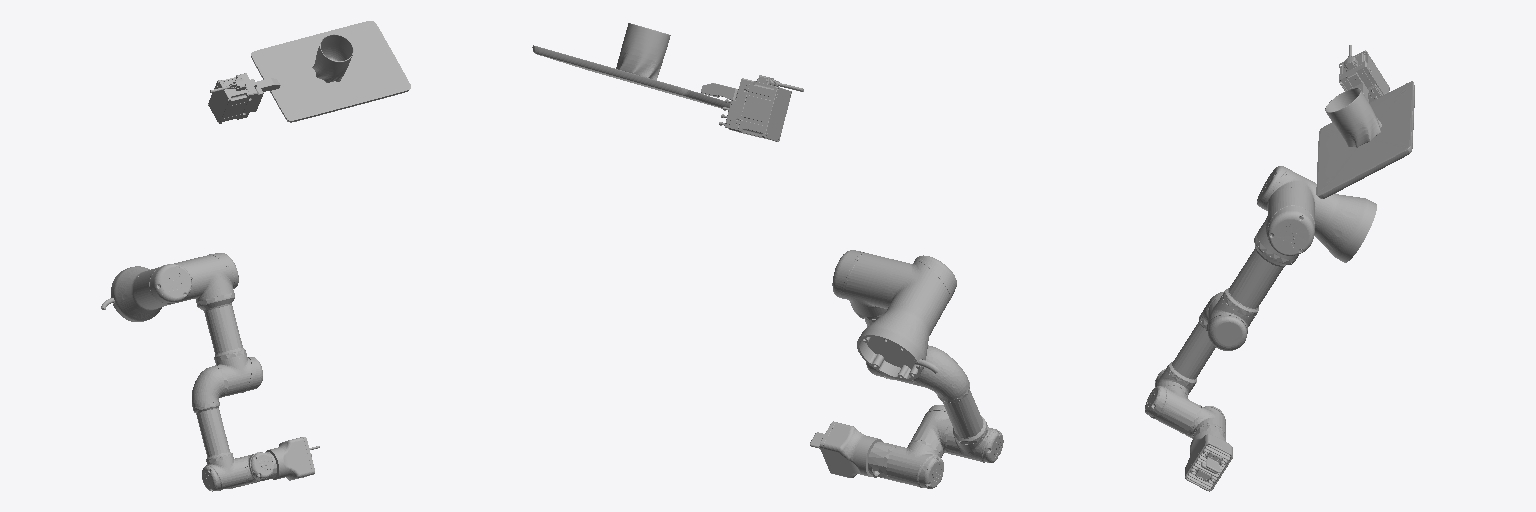
--- Render facts (derived) ---
3 views of the same robot in one strip: view 1: azimuth 30°, elevation 25°; view 2: azimuth 150°, elevation 25°; view 3: azimuth 270°, elevation 25° (orthographic).
Model dual_arm_model with 24 links and 23 joints (12 revolute, 11 fixed), rooted at Root, posed every joint at zero.
Visible links, largest first — view 1: flange1, upper_arm_link, forearm_link, shoulder_link, wrist_3_link, base_link, wrist_1_link; view 2: flange1, forearm_link, base_link, upper_arm_link, shoulder_link, wrist_3_link, wrist_2_link, wrist_1_link; view 3: flange1, upper_arm_link, base_link, wrist_3_link, forearm_link, wrist_1_link, shoulder_link, wrist_2_link.
Link boxes in pixels (box(x1,y1,x2,y2)): flange1: box(208, 21, 410, 123); upper_arm_link: box(182, 253, 262, 397); forearm_link: box(192, 366, 246, 491); shoulder_link: box(134, 262, 193, 308); wrist_3_link: box(261, 437, 319, 480); base_link: box(101, 266, 161, 321); wrist_1_link: box(239, 452, 273, 483); flange1: box(532, 23, 803, 141); forearm_link: box(916, 346, 1003, 462); base_link: box(857, 305, 939, 380); upper_arm_link: box(832, 250, 928, 385); shoulder_link: box(887, 255, 956, 330); wrist_3_link: box(810, 421, 896, 479); wrist_2_link: box(886, 440, 943, 488); wrist_1_link: box(911, 405, 951, 457); flange1: box(1316, 45, 1414, 198); upper_arm_link: box(1207, 188, 1314, 350); base_link: box(1314, 193, 1376, 262); wrist_3_link: box(1185, 423, 1232, 491); forearm_link: box(1155, 291, 1224, 396); wrist_1_link: box(1145, 385, 1198, 433); shoulder_link: box(1257, 166, 1332, 229); wrist_2_link: box(1185, 405, 1225, 438).
Bounding box of the posed robot: 0.7894 × 0.516 × 0.9519 m (x, y, z).
52 mesh visuals loaded from 66 distinct referenced files (52 OBJ); not drawn: 14 (reference not matched to a file when rendering).

robot.urdf — dual_arm_model:
<?xml version="1.0" encoding="UTF-8"?>
<robot name="dual_arm_model">
  <joint name="base_fixture_j_base_link" type="fixed">
    <origin xyz="0. -0.09 0.235" rpy="0. 1.0472 -1.5708"/>
    <parent link="base_fixture_link"/>
    <child link="base_link"/>
  </joint>
  <joint name="base_fixture_j_base_link1" type="fixed">
    <origin xyz="0. 0.09 0.235" rpy="-0. -1.0472 -1.5708"/>
    <parent link="base_fixture_link"/>
    <child link="base_link1"/>
  </joint>
  <joint name="base_link_base_fixed_joint" type="fixed">
    <origin xyz="0. 0. 0." rpy="0. 0. -3.1415925"/>
    <parent link="base_link"/>
    <child link="base"/>
  </joint>
  <joint name="base_link_base_fixed_joint1" type="fixed">
    <origin xyz="0. 0. 0." rpy="0. 0. -3.1415925"/>
    <parent link="base_link1"/>
    <child link="base1"/>
  </joint>
  <joint name="base_link_base_link_inertia1" type="fixed">
    <origin xyz="0. 0. 0." rpy="0. 0. -3.1415925"/>
    <parent link="base_link1"/>
    <child link="base_link_inertia1"/>
  </joint>
  <joint name="ee_fixed_joint" type="fixed">
    <origin xyz="0. 0.0819 0. " rpy="0. 0. 1.5707964"/>
    <parent link="wrist_3_link"/>
    <child link="ee_link"/>
  </joint>
  <joint name="elbow_joint" type="revolute">
    <origin xyz="0. -0.0925 0.24365" rpy="0. 0. 0."/>
    <parent link="upper_arm_link"/>
    <child link="forearm_link"/>
    <axis xyz="0. 1. 0."/>
    <limit lower="-6.2831853" upper="3.1415927" effort="150." velocity="3.15"/>
  </joint>
  <joint name="elbow_joint1" type="revolute">
    <origin xyz="-0.24355 0. 0. " rpy="0. 0. 0."/>
    <parent link="upper_arm_link1"/>
    <child link="forearm_link1"/>
    <axis xyz="0. 0. 1."/>
    <limit lower="-6.2831853" upper="6.2831853" effort="28." velocity="3.1415927"/>
  </joint>
  <joint name="flange_tool0" type="fixed">
    <origin xyz="0. 0. 0." rpy="1.5707964 0. 1.5707964"/>
    <parent link="flange"/>
    <child link="tool0"/>
  </joint>
  <joint name="flange_tool01" type="fixed">
    <origin xyz="0. 0. 0." rpy="1.5707964 0. 1.5707964"/>
    <parent link="flange1"/>
    <child link="tool01"/>
  </joint>
  <joint name="root_joint" type="fixed">
    <origin xyz="0. 0. 0." rpy="0. 0. 0."/>
    <parent link="Root"/>
    <child link="base_fixture_link"/>
  </joint>
  <joint name="shoulder_lift_joint" type="revolute">
    <origin xyz="0. 0.1198 0. " rpy="0. 1.5707963 0. "/>
    <parent link="shoulder_link"/>
    <child link="upper_arm_link"/>
    <axis xyz="0. 1. 0."/>
    <limit lower="-6.2831853" upper="6.2831853" effort="330." velocity="2.1600001"/>
  </joint>
  <joint name="shoulder_lift_joint1" type="revolute">
    <origin xyz="0. 0. 0." rpy="1.5707964 0. 0. "/>
    <parent link="shoulder_link1"/>
    <child link="upper_arm_link1"/>
    <axis xyz="0. 0. 1."/>
    <limit lower="-6.2831853" upper="6.2831853" effort="56." velocity="3.1415927"/>
  </joint>
  <joint name="shoulder_pan_joint" type="revolute">
    <origin xyz="0. 0. 0.1519" rpy="0. 0. 0."/>
    <parent link="base_link"/>
    <child link="shoulder_link"/>
    <axis xyz="0. 0. 1."/>
    <limit lower="-6.2831853" upper="6.2831853" effort="330." velocity="2.1600001"/>
  </joint>
  <joint name="shoulder_pan_joint1" type="revolute">
    <origin xyz="0. 0. 0.15185" rpy="0. 0. 0."/>
    <parent link="base_link_inertia1"/>
    <child link="shoulder_link1"/>
    <axis xyz="0. 0. 1."/>
    <limit lower="-6.2831853" upper="6.2831853" effort="56." velocity="3.1415927"/>
  </joint>
  <joint name="wrist_1_joint" type="revolute">
    <origin xyz="0. 0. 0.21325" rpy="0. 1.5707963 0. "/>
    <parent link="forearm_link"/>
    <child link="wrist_1_link"/>
    <axis xyz="0. 1. 0."/>
    <limit lower="-6.2831853" upper="6.2831853" effort="54." velocity="3.2"/>
  </joint>
  <joint name="wrist_1_joint1" type="revolute">
    <origin xyz="-0.2132 0. 0.13105" rpy="0. 0. 0."/>
    <parent link="forearm_link1"/>
    <child link="wrist_1_link1"/>
    <axis xyz="0. 0. 1."/>
    <limit lower="-6.2831853" upper="6.2831853" effort="12." velocity="6.2831853"/>
  </joint>
  <joint name="wrist_2_joint" type="revolute">
    <origin xyz="0. 0.08505 0. " rpy="0. 0. 0."/>
    <parent link="wrist_1_link"/>
    <child link="wrist_2_link"/>
    <axis xyz="0. 0. 1."/>
    <limit lower="-6.2831853" upper="6.2831853" effort="54." velocity="3.2"/>
  </joint>
  <joint name="wrist_2_joint1" type="revolute">
    <origin xyz="0. -0.08535 -0. " rpy="1.5707964 0. 0. "/>
    <parent link="wrist_1_link1"/>
    <child link="wrist_2_link1"/>
    <axis xyz="0. 0. 1."/>
    <limit lower="-6.2831853" upper="6.2831853" effort="12." velocity="6.2831853"/>
  </joint>
  <joint name="wrist_3_flange" type="fixed">
    <origin xyz="0. 0. 0." rpy="-1.5707964 -1.5707964 0. "/>
    <parent link="wrist_3_link"/>
    <child link="flange"/>
  </joint>
  <joint name="wrist_3_flange1" type="fixed">
    <origin xyz="0. 0. 0." rpy="-1.5707964 -1.5707964 0. "/>
    <parent link="wrist_3_link1"/>
    <child link="flange1"/>
  </joint>
  <joint name="wrist_3_joint" type="revolute">
    <origin xyz="0. 0. 0.08535" rpy="0. 0. 0."/>
    <parent link="wrist_2_link"/>
    <child link="wrist_3_link"/>
    <axis xyz="0. 1. 0."/>
    <limit lower="-6.2831853" upper="6.2831853" effort="54." velocity="3.2"/>
  </joint>
  <joint name="wrist_3_joint1" type="revolute">
    <origin xyz="0. 0.0921 -0. " rpy="-1.5707964 -0.0000001 0.0000001"/>
    <parent link="wrist_2_link1"/>
    <child link="wrist_3_link1"/>
    <axis xyz="0. 0. 1."/>
    <limit lower="-6.2831853" upper="6.2831853" effort="12." velocity="6.2831853"/>
  </joint>
  <link name="Root"/>
  <link name="base">
    <inertial>
      <origin xyz="0. 0. 0." rpy="0. 0. 0."/>
      <mass value="0.000001"/>
      <inertia ixx="0." ixy="0." ixz="0." iyy="0." iyz="0." izz="0."/>
    </inertial>
  </link>
  <link name="base1">
    <inertial>
      <origin xyz="0. 0. 0." rpy="0. 0. 0."/>
      <mass value="0.000001"/>
      <inertia ixx="0." ixy="0." ixz="0." iyy="0." iyz="0." izz="0."/>
    </inertial>
  </link>
  <link name="base_fixture_link"/>
  <link name="base_link">
    <inertial>
      <origin xyz="0. 0. 0." rpy="0. 0. 0."/>
      <mass value="2."/>
      <inertia ixx="0." ixy="0." ixz="0." iyy="0." iyz="0." izz="0."/>
    </inertial>
    <visual>
      <origin xyz="0. 0. 0." rpy="0. 0. 0."/>
      <geometry>
        <mesh filename="package://dual_arm_model/meshes/base_link_visuals.obj" scale="1. 1. 1."/>
      </geometry>
      <material name="LightGrey">
        <color rgba="0.7 0.7 0.7 1.0"/>
      </material>
    </visual>
    <collision>
      <origin xyz="0. 0. 0." rpy="0. 0. 0."/>
      <geometry>
        <mesh filename="package://dual_arm_model/meshes/base_link_collisions.obj" scale="1. 1. 1."/>
      </geometry>
    </collision>
  </link>
  <link name="base_link1">
    <inertial>
      <origin xyz="0. 0. 0." rpy="0. 0. 0."/>
      <mass value="0.000001"/>
      <inertia ixx="0." ixy="0." ixz="0." iyy="0." iyz="0." izz="0."/>
    </inertial>
  </link>
  <link name="base_link_inertia1">
    <inertial>
      <origin xyz="0. 0. 0." rpy="0. 0. 0."/>
      <mass value="2."/>
      <inertia ixx="0." ixy="0." ixz="0." iyy="0." iyz="0." izz="0."/>
    </inertial>
    <visual>
      <origin xyz="0. 0. 0." rpy="0. 0. -3.1415925"/>
      <geometry>
        <mesh filename="package://dual_arm_model/meshes/visual/base.dae" scale="1. 1. 1."/>
      </geometry>
      <material name="LightGrey">
        <color rgba="0.7 0.7 0.7 1.0"/>
      </material>
    </visual>
    <collision>
      <origin xyz="0. 0. 0." rpy="0. 0. -3.1415925"/>
      <geometry>
        <mesh filename="package://dual_arm_model/meshes/collision/base.stl" scale="1. 1. 1."/>
      </geometry>
    </collision>
  </link>
  <link name="ee_link">
    <inertial>
      <origin xyz="0. 0. 0." rpy="0. 0. 0."/>
      <mass value="0.000001"/>
      <inertia ixx="0." ixy="0." ixz="0." iyy="0." iyz="0." izz="0."/>
    </inertial>
    <visual>
      <origin xyz="-0.01 0. 0. " rpy="0. 0. 0."/>
      <geometry>
        <box size="0.01 0.01 0.01"/>
      </geometry>
    </visual>
    <collision>
      <origin xyz="-0.01 0. 0. " rpy="0. 0. 0."/>
      <geometry>
        <box size="0.01 0.01 0.01"/>
      </geometry>
    </collision>
  </link>
  <link name="flange">
    <inertial>
      <origin xyz="0. 0. 0." rpy="0. 0. 0."/>
      <mass value="0.000001"/>
      <inertia ixx="0." ixy="0." ixz="0." iyy="0." iyz="0." izz="0."/>
    </inertial>
  </link>
<material name="LightGrey">
    <color rgba="0.7 0.7 0.7 1.0"/>
</material>

<link name="flange1">
    <inertial>
      <origin xyz="0. 0. 0." rpy="0. 0. 0."/>
      <mass value="0.000001"/>
      <inertia ixx="0." ixy="0." ixz="0." iyy="0." iyz="0." izz="0."/>
    </inertial>
    <visual>
      <origin xyz="0.0242436 -0.0438991 0.0062681" rpy="0. 0. -1.5707964"/>
      <geometry>
        <mesh filename="meshes/PGI_140_80_W_S_finger_part_1_____________3_2_Mesh_0.obj" scale="0.001 0.001 0.001"/>
      </geometry>
      <material name="LightGrey">
        <color rgba="0.7 0.7 0.7 1.0"/>
      </material>
    </visual>
    <visual>
      <origin xyz="0.0232264 -0.0779881 0.0034687" rpy="0. 0. -1.5707964"/>
      <geometry>
        <mesh filename="meshes/PGI_140_80_W_S_finger_part_1_NONE_3_Mesh_1.obj" scale="0.001 0.001 0.001"/>
      </geometry>
      <material name="LightGrey">
        <color rgba="0.7 0.7 0.7 1.0"/>
      </material>
    </visual>
    <visual>
      <origin xyz="0.0242436 0.0331808 -0.0024476" rpy="-3.1415927 0. 1.5707963"/>
      <geometry>
        <mesh filename="meshes/PGI_140_80_W_S_finger_part_4_____________3_2_Mesh_0.obj" scale="0.001 0.001 0.001"/>
      </geometry>
      <material name="LightGrey">
        <color rgba="0.7 0.7 0.7 1.0"/>
      </material>
    </visual>
    <visual>
      <origin xyz="0.0253243 0.0693999 0.0005267" rpy="-3.1415927 0. 1.5707963"/>
      <geometry>
        <mesh filename="meshes/PGI_140_80_W_S_finger_part_4_NONE_3_Mesh_1.obj" scale="0.001 0.001 0.001"/>
      </geometry>
      <material name="LightGrey">
        <color rgba="0.7 0.7 0.7 1.0"/>
      </material>
    </visual>
    <visual>
      <origin xyz="0.0257436 -0.0438991 0.0062681" rpy="-1.5707964 0. -1.5707964"/>
      <geometry>
        <mesh filename="meshes/NONE_6_Mesh_2.obj" scale="0.001 0.001 0.001"/>
      </geometry>
      <material name="LightGrey">
        <color rgba="0.7 0.7 0.7 1.0"/>
      </material>
    </visual>
    <visual>
      <origin xyz="0.0257436 -0.0438991 0.0062681" rpy="-1.5707964 0. -1.5707964"/>
      <geometry>
        <mesh filename="meshes/Mesh_3.obj" scale="0.001 0.001 0.001"/>
      </geometry>
      <material name="LightGrey">
        <color rgba="0.7 0.7 0.7 1.0"/>
      </material>
    </visual>
    <visual>
      <origin xyz="0.0257436 -0.0438991 0.0062681" rpy="-1.5707964 0. -1.5707964"/>
      <geometry>
        <mesh filename="meshes/Mesh_4.obj" scale="0.001 0.001 0.001"/>
      </geometry>
      <material name="LightGrey">
        <color rgba="0.7 0.7 0.7 1.0"/>
      </material>
    </visual>
    <visual>
      <origin xyz="0.0257436 -0.0438991 0.0062681" rpy="-1.5707964 0. -1.5707964"/>
      <geometry>
        <mesh filename="meshes/Mesh_5.obj" scale="0.001 0.001 0.001"/>
      </geometry>
      <material name="LightGrey">
        <color rgba="0.7 0.7 0.7 1.0"/>
      </material>
    </visual>
    <visual>
      <origin xyz="0.0257436 -0.0438991 0.0062681" rpy="-1.5707964 0. -1.5707964"/>
      <geometry>
        <mesh filename="meshes/Mesh_6.obj" scale="0.001 0.001 0.001"/>
      </geometry>
      <material name="LightGrey">
        <color rgba="0.7 0.7 0.7 1.0"/>
      </material>
    </visual>
    <visual>
      <origin xyz="0.0257436 -0.0438991 0.0062681" rpy="-1.5707964 0. -1.5707964"/>
      <geometry>
        <mesh filename="meshes/Mesh_7.obj" scale="0.001 0.001 0.001"/>
      </geometry>
      <material name="LightGrey">
        <color rgba="0.7 0.7 0.7 1.0"/>
      </material>
    </visual>
    <visual>
      <origin xyz="0.0257436 -0.0438991 0.0062681" rpy="-1.5707964 0. -1.5707964"/>
      <geometry>
        <mesh filename="meshes/Mesh_8.obj" scale="0.001 0.001 0.001"/>
      </geometry>
      <material name="LightGrey">
        <color rgba="0.7 0.7 0.7 1.0"/>
      </material>
    </visual>
    <visual>
      <origin xyz="0.0257436 -0.0438991 0.0062681" rpy="-1.5707964 0. -1.5707964"/>
      <geometry>
        <mesh filename="meshes/Mesh_9.obj" scale="0.001 0.001 0.001"/>
      </geometry>
      <material name="LightGrey">
        <color rgba="0.7 0.7 0.7 1.0"/>
      </material>
    </visual>
    <visual>
      <origin xyz="0.0257436 -0.0438991 0.0062681" rpy="-1.5707964 0. -1.5707964"/>
      <geometry>
        <mesh filename="meshes/Mesh_10.obj" scale="0.001 0.001 0.001"/>
      </geometry>
      <material name="LightGrey">
        <color rgba="0.7 0.7 0.7 1.0"/>
      </material>
    </visual>
    <visual>
      <origin xyz="0.0257436 -0.0438991 0.0062681" rpy="-1.5707964 0. -1.5707964"/>
      <geometry>
        <mesh filename="meshes/Mesh_11.obj" scale="0.001 0.001 0.001"/>
      </geometry>
      <material name="LightGrey">
        <color rgba="0.7 0.7 0.7 1.0"/>
      </material>
    </visual>
    <visual>
      <origin xyz="0.0257436 -0.0438991 0.0062681" rpy="-1.5707964 0. -1.5707964"/>
      <geometry>
        <mesh filename="meshes/Mesh_12.obj" scale="0.001 0.001 0.001"/>
      </geometry>
      <material name="LightGrey">
        <color rgba="0.7 0.7 0.7 1.0"/>
      </material>
    </visual>
    <visual>
      <origin xyz="0.0257436 -0.0438991 0.0062681" rpy="-1.5707964 0. -1.5707964"/>
      <geometry>
        <mesh filename="meshes/NONE_17_Mesh_13.obj" scale="0.001 0.001 0.001"/>
      </geometry>
      <material name="LightGrey">
        <color rgba="0.7 0.7 0.7 1.0"/>
      </material>
    </visual>
    <visual>
      <origin xyz="0.0257436 -0.0438991 0.0062681" rpy="-1.5707964 0. -1.5707964"/>
      <geometry>
        <mesh filename="meshes/NONE_18_Mesh_14.obj" scale="0.001 0.001 0.001"/>
      </geometry>
      <material name="LightGrey">
        <color rgba="0.7 0.7 0.7 1.0"/>
      </material>
    </visual>
    <visual>
      <origin xyz="0.0257436 -0.0438991 0.0062681" rpy="-1.5707964 0. -1.5707964"/>
      <geometry>
        <mesh filename="meshes/NONE_19_Mesh_15.obj" scale="0.001 0.001 0.001"/>
      </geometry>
      <material name="LightGrey">
        <color rgba="0.7 0.7 0.7 1.0"/>
      </material>
    </visual>
    <visual>
      <origin xyz="0.0257436 -0.0438991 0.0062681" rpy="-1.5707964 0. -1.5707964"/>
      <geometry>
        <mesh filename="meshes/NONE_20_Mesh_16.obj" scale="0.001 0.001 0.001"/>
      </geometry>
      <material name="LightGrey">
        <color rgba="0.7 0.7 0.7 1.0"/>
      </material>
    </visual>
    <visual>
      <origin xyz="0.0257436 -0.0438991 0.0062681" rpy="-1.5707964 0. -1.5707964"/>
      <geometry>
        <mesh filename="meshes/Mesh_17.obj" scale="0.001 0.001 0.001"/>
      </geometry>
      <material name="LightGrey">
        <color rgba="0.7 0.7 0.7 1.0"/>
      </material>
    </visual>
    <visual>
      <origin xyz="0.0257436 -0.0438991 0.0062681" rpy="-1.5707964 0. -1.5707964"/>
      <geometry>
        <mesh filename="meshes/Mesh_18.obj" scale="0.001 0.001 0.001"/>
      </geometry>
      <material name="LightGrey">
        <color rgba="0.7 0.7 0.7 1.0"/>
      </material>
    </visual>
    <visual>
      <origin xyz="0.0257436 -0.0438991 0.0062681" rpy="-1.5707964 0. -1.5707964"/>
      <geometry>
        <mesh filename="meshes/Mesh_19.obj" scale="0.001 0.001 0.001"/>
      </geometry>
      <material name="LightGrey">
        <color rgba="0.7 0.7 0.7 1.0"/>
      </material>
    </visual>
    <visual>
      <origin xyz="0.0257436 -0.0438991 0.0062681" rpy="-1.5707964 0. -1.5707964"/>
      <geometry>
        <mesh filename="meshes/Mesh_20.obj" scale="0.001 0.001 0.001"/>
      </geometry>
      <material name="LightGrey">
        <color rgba="0.7 0.7 0.7 1.0"/>
      </material>
    </visual>
    <visual>
      <origin xyz="0.0257436 -0.0438991 0.0062681" rpy="-1.5707964 0. -1.5707964"/>
      <geometry>
        <mesh filename="meshes/Mesh_21.obj" scale="0.001 0.001 0.001"/>
      </geometry>
      <material name="LightGrey">
        <color rgba="0.7 0.7 0.7 1.0"/>
      </material>
    </visual>
    <visual>
      <origin xyz="0.0257436 -0.0438991 0.0062681" rpy="-1.5707964 0. -1.5707964"/>
      <geometry>
        <mesh filename="meshes/Mesh_22.obj" scale="0.001 0.001 0.001"/>
      </geometry>
      <material name="LightGrey">
        <color rgba="0.7 0.7 0.7 1.0"/>
      </material>
    </visual>
    <visual>
      <origin xyz="0.0257436 -0.0438991 0.0062681" rpy="-1.5707964 0. -1.5707964"/>
      <geometry>
        <mesh filename="meshes/Mesh_23.obj" scale="0.001 0.001 0.001"/>
      </geometry>
      <material name="LightGrey">
        <color rgba="0.7 0.7 0.7 1.0"/>
      </material>
    </visual>
    <visual>
      <origin xyz="0.0257436 -0.0438991 0.0062681" rpy="-1.5707964 0. -1.5707964"/>
      <geometry>
        <mesh filename="meshes/Mesh_24.obj" scale="0.001 0.001 0.001"/>
      </geometry>
      <material name="LightGrey">
        <color rgba="0.7 0.7 0.7 1.0"/>
      </material>
    </visual>
    <visual>
      <origin xyz="0.0257436 -0.0438991 0.0062681" rpy="-1.5707964 0. -1.5707964"/>
      <geometry>
        <mesh filename="meshes/Mesh_25.obj" scale="0.001 0.001 0.001"/>
      </geometry>
      <material name="LightGrey">
        <color rgba="0.7 0.7 0.7 1.0"/>
      </material>
    </visual>
    <visual>
      <origin xyz="0.0257436 -0.0438991 0.0062681" rpy="-1.5707964 0. -1.5707964"/>
      <geometry>
        <mesh filename="meshes/Mesh_26.obj" scale="0.001 0.001 0.001"/>
      </geometry>
      <material name="LightGrey">
        <color rgba="0.7 0.7 0.7 1.0"/>
      </material>
    </visual>
    <visual>
      <origin xyz="0.0257436 -0.0438991 0.0062681" rpy="-1.5707964 0. -1.5707964"/>
      <geometry>
        <mesh filename="meshes/Mesh_27.obj" scale="0.001 0.001 0.001"/>
      </geometry>
      <material name="LightGrey">
        <color rgba="0.7 0.7 0.7 1.0"/>
      </material>
    </visual>
    <visual>
      <origin xyz="0.0257436 -0.0438991 0.0062681" rpy="-1.5707964 0. -1.5707964"/>
      <geometry>
        <mesh filename="meshes/Mesh_28.obj" scale="0.001 0.001 0.001"/>
      </geometry>
      <material name="LightGrey">
        <color rgba="0.7 0.7 0.7 1.0"/>
      </material>
    </visual>
    <visual>
      <origin xyz="0.0257436 -0.0438991 0.0062681" rpy="-1.5707964 0. -1.5707964"/>
      <geometry>
        <mesh filename="meshes/Mesh_29.obj" scale="0.001 0.001 0.001"/>
      </geometry>
      <material name="LightGrey">
        <color rgba="0.7 0.7 0.7 1.0"/>
      </material>
    </visual>
    <visual>
      <origin xyz="0.0257436 -0.0438991 0.0062681" rpy="-1.5707964 0. -1.5707964"/>
      <geometry>
        <mesh filename="meshes/Mesh_30.obj" scale="0.001 0.001 0.001"/>
      </geometry>
      <material name="LightGrey">
        <color rgba="0.7 0.7 0.7 1.0"/>
      </material>
    </visual>
    <visual>
      <origin xyz="0.0257436 -0.0438991 0.0062681" rpy="-1.5707964 0. -1.5707964"/>
      <geometry>
        <mesh filename="meshes/Mesh_31.obj" scale="0.001 0.001 0.001"/>
      </geometry>
      <material name="LightGrey">
        <color rgba="0.7 0.7 0.7 1.0"/>
      </material>
    </visual>
    <visual>
      <origin xyz="0.0257436 -0.0438991 0.0062681" rpy="-1.5707964 0. -1.5707964"/>
      <geometry>
        <mesh filename="meshes/Mesh_32.obj" scale="0.001 0.001 0.001"/>
      </geometry>
      <material name="LightGrey">
        <color rgba="0.7 0.7 0.7 1.0"/>
      </material>
    </visual>
    <visual>
      <origin xyz="0.0257436 -0.0438991 0.0062681" rpy="-1.5707964 0. -1.5707964"/>
      <geometry>
        <mesh filename="meshes/Mesh_33.obj" scale="0.001 0.001 0.001"/>
      </geometry>
      <material name="LightGrey">
        <color rgba="0.7 0.7 0.7 1.0"/>
      </material>
    </visual>
    <visual>
      <origin xyz="0.0257436 -0.0438991 0.0062681" rpy="-1.5707964 0. -1.5707964"/>
      <geometry>
        <mesh filename="meshes/Mesh_34.obj" scale="0.001 0.001 0.001"/>
      </geometry>
      <material name="LightGrey">
        <color rgba="0.7 0.7 0.7 1.0"/>
      </material>
    </visual>
    <visual>
      <origin xyz="0.3018072 -0.0136545 0.0148756" rpy="1.5707964 0. -0.0349049"/>
      <geometry>
        <mesh filename="meshes/plane_node__mesh_.obj" scale="1.05 1. 1. "/>
      </geometry>
      <material name="LightGrey">
        <color rgba="0.7 0.7 0.7 1.0"/>
      </material>
    </visual>
    <visual>
      <origin xyz="0.2958951 -0.0129789 0.0094272" rpy="1.6057012 1.5707964 0. "/>
      <geometry>
        <mesh filename="meshes/bottle_node__mesh_.obj" scale="1. 1. 1."/>
      </geometry>
      <material name="LightGrey">
        <color rgba="0.7 0.7 0.7 1.0"/>
      </material>
    </visual>
</link>


  <link name="forearm_link">
    <inertial>
      <origin xyz="0. 0. 0." rpy="0. 0. 0."/>
      <mass value="1.26"/>
      <inertia ixx="0." ixy="0." ixz="0." iyy="0." iyz="0." izz="0."/>
    </inertial>
    <visual>
      <origin xyz="0. 0. -0." rpy="0. 0. 0."/>
      <geometry>
        <mesh filename="package://dual_arm_model/meshes/forearm_link_visuals.obj" scale="1. 1. 1."/>
      </geometry>
      <material name="LightGrey">
        <color rgba="0.7 0.7 0.7 1.0"/>
      </material>
    </visual>
    <collision>
      <origin xyz="0. 0. 0." rpy="0. 0. 0."/>
      <geometry>
        <mesh filename="package://dual_arm_model/meshes/forearm_link_collisions.obj" scale="1. 1. 1."/>
      </geometry>
    </collision>
  </link>
  <link name="forearm_link1">
    <inertial>
      <origin xyz="0. 0. 0." rpy="0. 0. 0."/>
      <mass value="1.26"/>
      <inertia ixx="0." ixy="0." ixz="0." iyy="0." iyz="0." izz="0."/>
    </inertial>
    <visual>
      <origin xyz="0. 0. 0.027" rpy="1.5707964 -0.0000001 -1.5707965"/>
      <geometry>
        <mesh filename="package://dual_arm_model/meshes/visual/forearm.dae" scale="1. 1. 1."/>
      </geometry>
      <material name="LightGrey">
        <color rgba="0.7 0.7 0.7 1.0"/>
      </material>
    </visual>
      <origin xyz="0. 0. 0.027" rpy="1.5707964 0. -1.5707964"/>
      <geometry>
        <mesh filename="package://dual_arm_model/meshes/collision/forearm.stl" scale="1. 1. 1."/>
      </geometry>
    <collision>
      <origin xyz="0. 0. 0.027" rpy="1.5707964 0. -1.5707964"/>
      <geometry>
        <mesh filename="package://dual_arm_model/meshes/collision/forearm.stl" scale="1. 1. 1."/>
      </geometry>
    </collision>
  </link>
  <link name="shoulder_link">
    <inertial>
      <origin xyz="0. 0. 0." rpy="0. 0. 0."/>
      <mass value="2."/>
      <inertia ixx="0." ixy="0." ixz="0." iyy="0." iyz="0." izz="0."/>
    </inertial>
    <visual>
      <origin xyz="0. -0. 0." rpy="0. 0. 0."/>
      <geometry>
        <mesh filename="package://dual_arm_model/meshes/shoulder_link_visuals.obj" scale="1. 1. 1."/>
      </geometry>
      <material name="LightGrey">
        <color rgba="0.7 0.7 0.7 1.0"/>
      </material>
    </visual>
    <collision>
      <origin xyz="0. 0. 0." rpy="0. 0. 0."/>
      <geometry>
        <mesh filename="package://dual_arm_model/meshes/shoulder_link_collisions.obj" scale="1. 1. 1."/>
      </geometry>
    </collision>
  </link>
  <link name="shoulder_link1">
    <inertial>
      <origin xyz="0. 0. 0." rpy="0. 0. 0."/>
      <mass value="2."/>
      <inertia ixx="0." ixy="0." ixz="0." iyy="0." iyz="0." izz="0."/>
    </inertial>
    <visual>
      <origin xyz="-0. 0. -0.0000001" rpy="0. -0.0000002 -3.1415925"/>
      <geometry>
        <mesh filename="package://dual_arm_model/meshes/visual/shoulder.dae" scale="1. 1. 1."/>
      </geometry>
      <material name="LightGrey">
        <color rgba="0.7 0.7 0.7 1.0"/>
      </material>
    </visual>
    <collision>
      <origin xyz="0. 0. 0." rpy="0. 0. -3.1415925"/>
      <geometry>
        <mesh filename="package://dual_arm_model/meshes/collision/shoulder.stl" scale="1. 1. 1."/>
      </geometry>
    </collision>
  </link>
  <link name="tool0">
    <inertial>
      <origin xyz="0. 0. 0." rpy="0. 0. 0."/>
      <mass value="0.000001"/>
      <inertia ixx="0." ixy="0." ixz="0." iyy="0." iyz="0." izz="0."/>
    </inertial>
  </link>
  <link name="tool01">
    <inertial>
      <origin xyz="0. 0. 0." rpy="0. 0. 0."/>
      <mass value="0.000001"/>
      <inertia ixx="0." ixy="0." ixz="0." iyy="0." iyz="0." izz="0."/>
    </inertial>
  </link>
  <link name="upper_arm_link">
    <inertial>
      <origin xyz="0. 0. 0." rpy="0. 0. 0."/>
      <mass value="3.4200001"/>
      <inertia ixx="0." ixy="0." ixz="0." iyy="0." iyz="0." izz="0."/>
    </inertial>
    <visual>
      <origin xyz="0. 0. 0.0000001" rpy="0. 0. 0."/>
      <geometry>
        <mesh filename="package://dual_arm_model/meshes/upper_arm_link_visuals.obj" scale="1. 1. 1."/>
      </geometry>
      <material name="LightGrey">
        <color rgba="0.7 0.7 0.7 1.0"/>
      </material>
    </visual>
    <collision>
      <origin xyz="0. 0. 0." rpy="0. 0. 0."/>
      <geometry>
        <mesh filename="package://dual_arm_model/meshes/upper_arm_link_collisions.obj" scale="1. 1. 1."/>
      </geometry>
    </collision>
  </link>
  <link name="upper_arm_link1">
    <inertial>
      <origin xyz="0. 0. 0." rpy="0. 0. 0."/>
      <mass value="3.4200001"/>
      <inertia ixx="0." ixy="0." ixz="0." iyy="0." iyz="0." izz="0."/>
    </inertial>
    <visual>
      <origin xyz="0. -0.0000001 0.12 " rpy="1.5707964 0. -1.5707964"/>
      <geometry>
        <mesh filename="package://dual_arm_model/meshes/visual/upperarm.dae" scale="1. 1. 1."/>
      </geometry>
      <material name="LightGrey">
        <color rgba="0.7 0.7 0.7 1.0"/>
      </material>
    </visual>
    <collision>
      <origin xyz="0. 0. 0.12" rpy="1.5707964 0. -1.5707964"/>
      <geometry>
        <mesh filename="package://dual_arm_model/meshes/collision/upperarm.stl" scale="1. 1. 1."/>
      </geometry>
    </collision>
  </link>
  <link name="wrist_1_link">
    <inertial>
      <origin xyz="0. 0. 0." rpy="0. 0. 0."/>
      <mass value="0.8"/>
      <inertia ixx="0." ixy="0." ixz="0." iyy="0." iyz="0." izz="0."/>
    </inertial>
    <visual>
      <origin xyz="0. -0. 0.0000001" rpy="0. 0. 0."/>
      <geometry>
        <mesh filename="package://dual_arm_model/meshes/wrist_1_link_visuals.obj" scale="1. 1. 1."/>
      </geometry>
      <material name="LightGrey">
        <color rgba="0.7 0.7 0.7 1.0"/>
      </material>
    </visual>
    <collision>
      <origin xyz="0. 0. 0." rpy="0. 0. 0."/>
      <geometry>
        <mesh filename="package://dual_arm_model/meshes/wrist_1_link_collisions.obj" scale="1. 1. 1."/>
      </geometry>
    </collision>
  </link>
  <link name="wrist_1_link1">
    <inertial>
      <origin xyz="0. 0. 0." rpy="0. 0. 0."/>
      <mass value="0.8"/>
      <inertia ixx="0." ixy="0." ixz="0." iyy="0." iyz="0." izz="0."/>
    </inertial>
    <visual>
      <origin xyz="-0.0000008 0.0000007 -0.1039999" rpy="1.5707964 -0.0000001 0. "/>
      <geometry>
        <mesh filename="package://dual_arm_model/meshes/visual/wrist1.dae" scale="1. 1. 1."/>
      </geometry>
      <material name="LightGrey">
        <color rgba="0.7 0.7 0.7 1.0"/>
      </material>
    </visual>
    <collision>
      <origin xyz="0. 0. -0.104" rpy="1.5707964 0. 0. "/>
      <geometry>
        <mesh filename="package://dual_arm_model/meshes/collision/wrist1.stl" scale="1. 1. 1."/>
      </geometry>
    </collision>
  </link>
  <link name="wrist_2_link">
    <inertial>
      <origin xyz="0. 0. 0." rpy="0. 0. 0."/>
      <mass value="0.8"/>
      <inertia ixx="0." ixy="0." ixz="0." iyy="0." iyz="0." izz="0."/>
    </inertial>
    <visual>
      <origin xyz="-0. 0. 0." rpy="0. 0. 0."/>
      <geometry>
        <mesh filename="package://dual_arm_model/meshes/wrist_2_link_visuals.obj" scale="1. 1. 1."/>
      </geometry>
      <material name="LightGrey">
        <color rgba="0.7 0.7 0.7 1.0"/>
      </material>
    </visual>
    <collision>
      <origin xyz="0. 0. 0." rpy="0. 0. 0."/>
      <geometry>
        <mesh filename="package://dual_arm_model/meshes/wrist_2_link_collisions.obj" scale="1. 1. 1."/>
      </geometry>
    </collision>
  </link>
  <link name="wrist_2_link1">
    <inertial>
      <origin xyz="0. 0. 0." rpy="0. 0. 0."/>
      <mass value="0.8"/>
      <inertia ixx="0." ixy="0." ixz="0." iyy="0." iyz="0." izz="0."/>
    </inertial>
    <visual>
      <origin xyz="-0.0000001 0. -0.08535 " rpy="0. 0. 0."/>
      <geometry>
        <mesh filename="package://dual_arm_model/meshes/visual/wrist2.dae" scale="1. 1. 1."/>
      </geometry>
      <material name="LightGrey">
        <color rgba="0.7 0.7 0.7 1.0"/>
      </material>
    </visual>
    <collision>
      <origin xyz="-0.0000001 0. -0.08535 " rpy="0. 0. 0."/>
      <geometry>
        <mesh filename="package://dual_arm_model/meshes/collision/wrist2.stl" scale="1. 1. 1."/>
      </geometry>
    </collision>
  </link>
  <link name="wrist_3_link">
    <inertial>
      <origin xyz="0. 0. 0." rpy="0. 0. 0."/>
      <mass value="0.35"/>
      <inertia ixx="0." ixy="0." ixz="0." iyy="0." iyz="0." izz="0."/>
    </inertial>
    <visual>
      <origin xyz="-0. -0.000779 0. " rpy="0. 0. 0."/>
      <geometry>
        <mesh filename="meshes/wrist_3_link_visuals.obj" scale="1. 1. 1."/>
      </geometry>
      <material name="LightGrey">
        <color rgba="0.7 0.7 0.7 1.0"/>
      </material>
    </visual>
    <visual>
      <origin xyz="0. 0. 0." rpy="0. 0. 0."/>
      <geometry>
        <mesh filename="meshes/wrist_3_link_collisions.obj" scale="1. 1. 1."/>
      </geometry>
      <material name="LightGrey">
        <color rgba="0.7 0.7 0.7 1.0"/>
      </material>
    </visual>
    <visual>
      <origin xyz="-0.0001776 0.163233 -0.0029456" rpy="0. 1.492921 0. "/>
      <geometry>
        <mesh filename="meshes/_101920_1_CirPattern1_2_Mesh_0.obj" scale="0.001 0.001 0.001"/>
      </geometry>
      <material name="LightGrey">
        <color rgba="0.7 0.7 0.7 1.0"/>
      </material>
    </visual>
    <visual>
      <origin xyz="-0.0001776 0.163233 -0.0029456" rpy="3.1415927 -0.329281 -3.1415927"/>
      <geometry>
        <mesh filename="meshes/_101920_3_CirPattern1_2_Mesh_0.obj" scale="0.001 0.001 0.001"/>
      </geometry>
      <material name="LightGrey">
        <color rgba="0.7 0.7 0.7 1.0"/>
      </material>
    </visual>
    <visual>
      <origin xyz="-0.0001776 0.163233 -0.0029456" rpy="3.1415927 -1.5707963 0. "/>
      <geometry>
        <mesh filename="meshes/Chamfer1_5_Mesh_1.obj" scale="0.001 0.001 0.001"/>
      </geometry>
      <material name="LightGrey">
        <color rgba="0.7 0.7 0.7 1.0"/>
      </material>
    </visual>
    <visual>
      <origin xyz="-0.0001776 0.163233 -0.0029456" rpy="0. 0. -3.1415927"/>
      <geometry>
        <mesh filename="meshes/Boss_Extrude9_7_Mesh_2.obj" scale="0.001 0.001 0.001"/>
      </geometry>
      <material name="LightGrey">
        <color rgba="0.7 0.7 0.7 1.0"/>
      </material>
    </visual>
    <visual>
      <origin xyz="0.0113084 0.1632959 -0.0021667" rpy="0. 0. 0."/>
      <geometry>
        <mesh filename="meshes/_105911_79_Split_Line1_80_Mesh_13.obj" scale="0.001 0.001 0.001"/>
      </geometry>
      <material name="LightGrey">
        <color rgba="0.7 0.7 0.7 1.0"/>
      </material>
    </visual>
    <visual>
      <origin xyz="-0.0001776 0.163233 -0.0029456" rpy="0. -1.5707963 0. "/>
      <geometry>
        <mesh filename="meshes/_105961_Mounted_81_Fillet7_82_Mesh_14.obj" scale="0.001 0.001 0.001"/>
      </geometry>
      <material name="LightGrey">
        <color rgba="0.7 0.7 0.7 1.0"/>
      </material>
    </visual>
    <visual>
      <origin xyz="-0.0001776 0.163233 -0.0029456" rpy="0. -1.5707963 0. "/>
      <geometry>
        <mesh filename="meshes/_105961_Mounted_83_Fillet7_82_Mesh_14.obj" scale="0.001 0.001 0.001"/>
      </geometry>
      <material name="LightGrey">
        <color rgba="0.7 0.7 0.7 1.0"/>
      </material>
    </visual>
    <visual>
      <origin xyz="-0.0001776 0.163233 -0.0029456" rpy="0. 1.5250294 0. "/>
      <geometry>
        <mesh filename="meshes/_101920_84_CirPattern1_2_Mesh_0.obj" scale="0.001 0.001 0.001"/>
      </geometry>
      <material name="LightGrey">
        <color rgba="0.7 0.7 0.7 1.0"/>
      </material>
    </visual>
    <visual>
      <origin xyz="-0.0001748 0.1680574 -0.0029651" rpy="-3.1415927 0. -3.1415927"/>
      <geometry>
        <mesh filename="meshes/Fillet220_86_Mesh_15.obj" scale="0.001 0.001 0.001"/>
      </geometry>
      <material name="LightGrey">
        <color rgba="0.7 0.7 0.7 1.0"/>
      </material>
    </visual>
    <visual>
      <origin xyz="-0.0001776 0.163233 -0.0029456" rpy="3.1415927 0. 0. "/>
      <geometry>
        <mesh filename="meshes/Cut_Extrude4_88_Mesh_16.obj" scale="0.001 0.001 0.001"/>
      </geometry>
      <material name="LightGrey">
        <color rgba="0.7 0.7 0.7 1.0"/>
      </material>
    </visual>
    <visual>
      <origin xyz="0.002519 0.1632477 -0.0027627" rpy="3.1415927 0. 3.1415927"/>
      <geometry>
        <mesh filename="meshes/_105911_89_Split_Line1_80_Mesh_13.obj" scale="0.001 0.001 0.001"/>
      </geometry>
      <material name="LightGrey">
        <color rgba="0.7 0.7 0.7 1.0"/>
      </material>
    </visual>
    <visual>
      <origin xyz="-0.0001776 0.163233 -0.0029456" rpy="0. 0.4620416 0. "/>
      <geometry>
        <mesh filename="meshes/_101920_90_CirPattern1_2_Mesh_0.obj" scale="0.001 0.001 0.001"/>
      </geometry>
      <material name="LightGrey">
        <color rgba="0.7 0.7 0.7 1.0"/>
      </material>
    </visual>
    <collision>
      <origin xyz="0. 0. 0." rpy="0. 0. 0."/>
      <geometry>
        <mesh filename="meshes/wrist_3_link_collisions.obj" scale="1. 1. 1."/>
      </geometry>
    </collision>
  </link>
  <link name="wrist_3_link1">
    <inertial>
      <origin xyz="0. 0. 0." rpy="0. 0. 0."/>
      <mass value="0.35"/>
      <inertia ixx="0." ixy="0." ixz="0." iyy="0." iyz="0." izz="0."/>
    </inertial>
    <visual>
      <origin xyz="0. -0. -0.0921" rpy="1.5707964 0. 0.0000001"/>
      <geometry>
        <mesh filename="package://dual_arm_model/meshes/visual/wrist3.dae" scale="1. 1. 1."/>
      </geometry>
      <material name="LightGrey">
        <color rgba="0.7 0.7 0.7 1.0"/>
      </material>
    </visual>
    <collision>
      <origin xyz="0. 0. -0.0921" rpy="1.5707964 0. 0. "/>
      <geometry>
        <mesh filename="package://dual_arm_model/meshes/collision/wrist3.stl" scale="1. 1. 1."/>
      </geometry>
    </collision>
  </link>
</robot>
